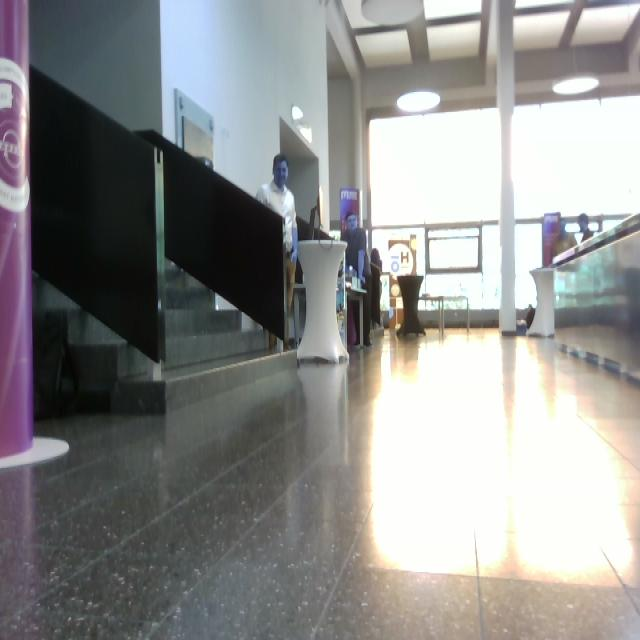door: (134, 128, 280, 373)
light bulb: (1, 1, 70, 469), (552, 48, 600, 96), (361, 1, 425, 28), (552, 74, 600, 96), (397, 90, 441, 113), (299, 125, 313, 144), (292, 105, 304, 121)
person: (255, 154, 299, 353), (341, 210, 374, 349)
pillar: (496, 1, 518, 334)
tiled floor: (2, 323, 639, 639)
